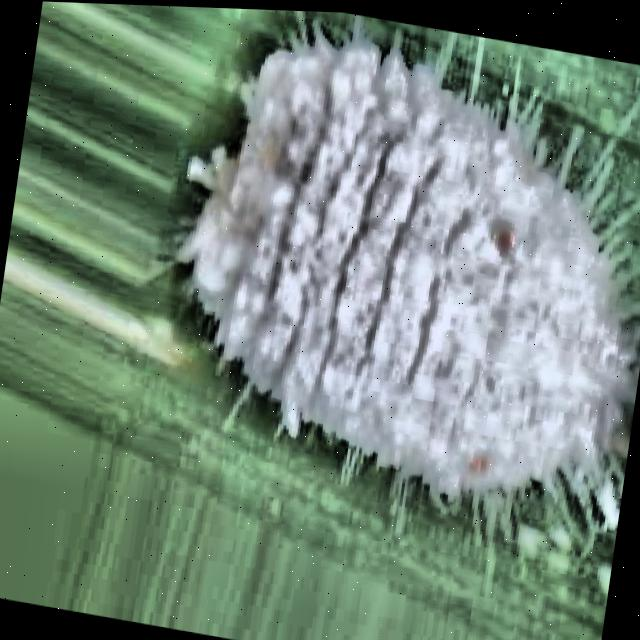Mealy-bug: (36, 1, 640, 560)
